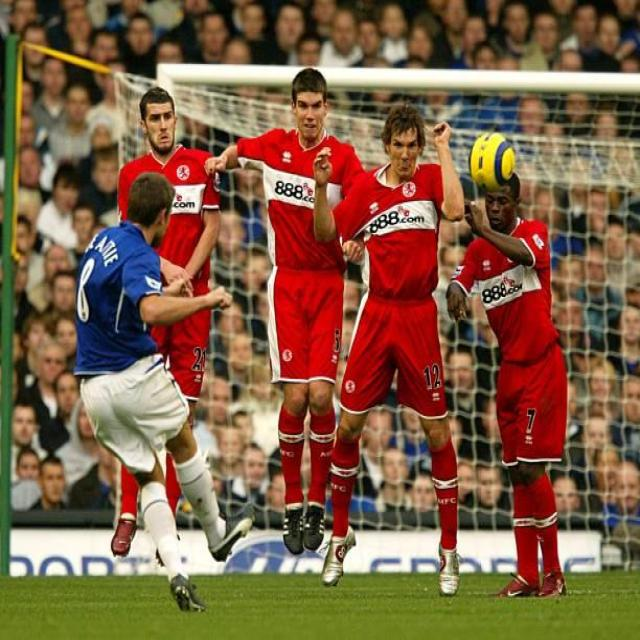ball: (464, 130, 519, 187)
player: (75, 172, 238, 610), (343, 113, 473, 599), (244, 72, 370, 559), (455, 188, 579, 602), (113, 78, 233, 376)
